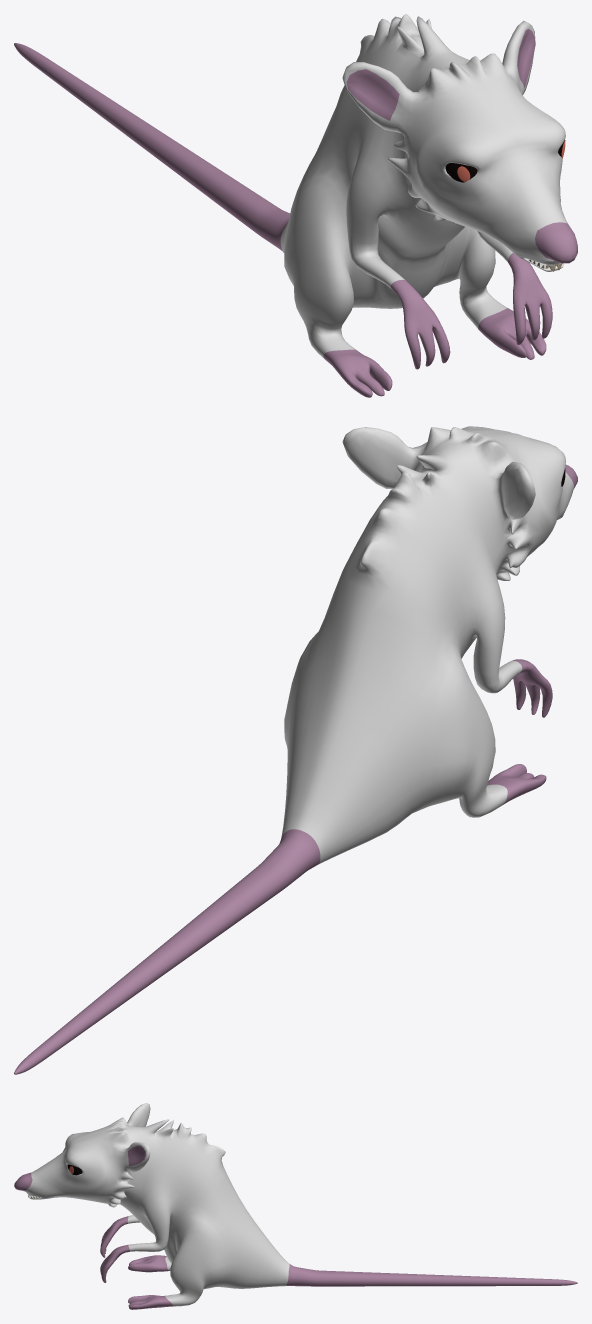
Rendered from Rat.fbx.
The picture shows the model from 3 angles, top to bottom: view 1: azimuth 30°, elevation 25°; view 2: azimuth 150°, elevation 25°; view 3: azimuth 270°, elevation 25°; orthographic projection. The views are drawn at different scales.
Visible parts, largest first — view 1: Rat, Eyes; view 2: Rat; view 3: Rat.
Part boxes in pixels (x1,y1,x2,y2): Rat: (14, 14, 577, 397); Eyes: (445, 140, 565, 182); Rat: (14, 426, 577, 1074); Rat: (14, 1103, 577, 1309).
Bounding box in the file's own units: 78.36 × 129 × 391.
